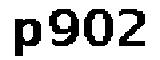0: (84, 6, 113, 49)
2: (115, 8, 148, 50)
9: (47, 8, 82, 50)
p: (10, 16, 43, 60)
